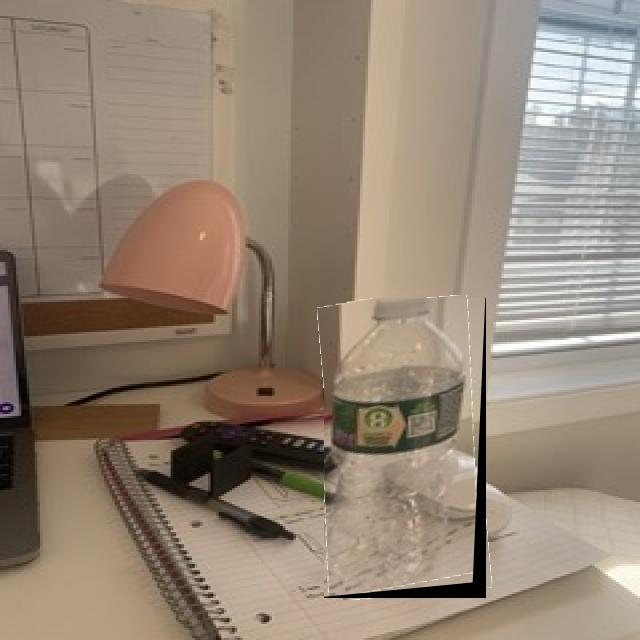water_bottle: (324, 298, 486, 598)
